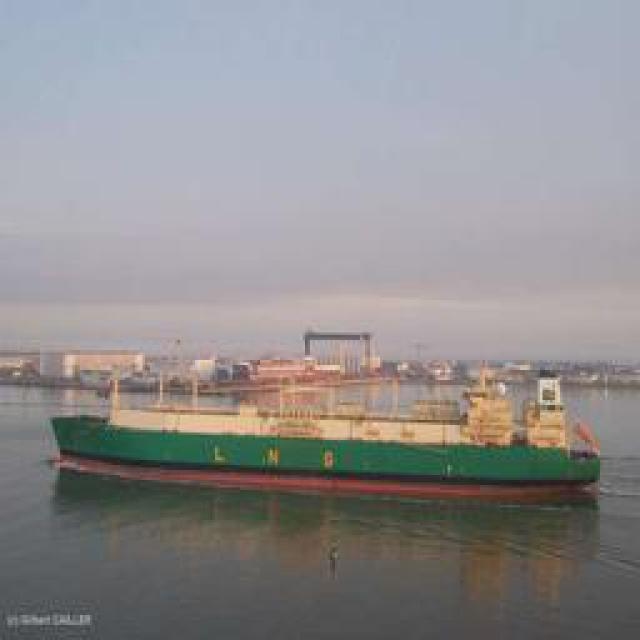Ship: (51, 393, 611, 488)
